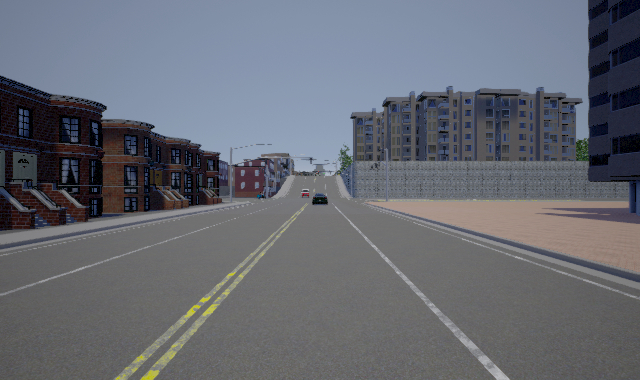vehicle: (311, 192, 327, 204), (301, 188, 310, 199)
